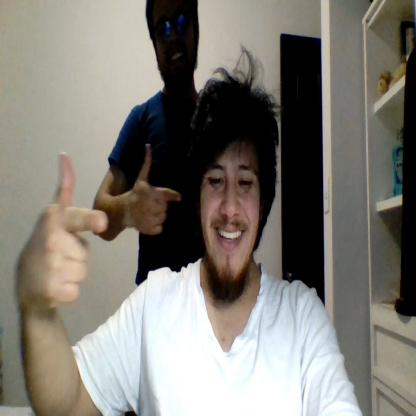G: (24, 152, 107, 311), (132, 142, 182, 234)
